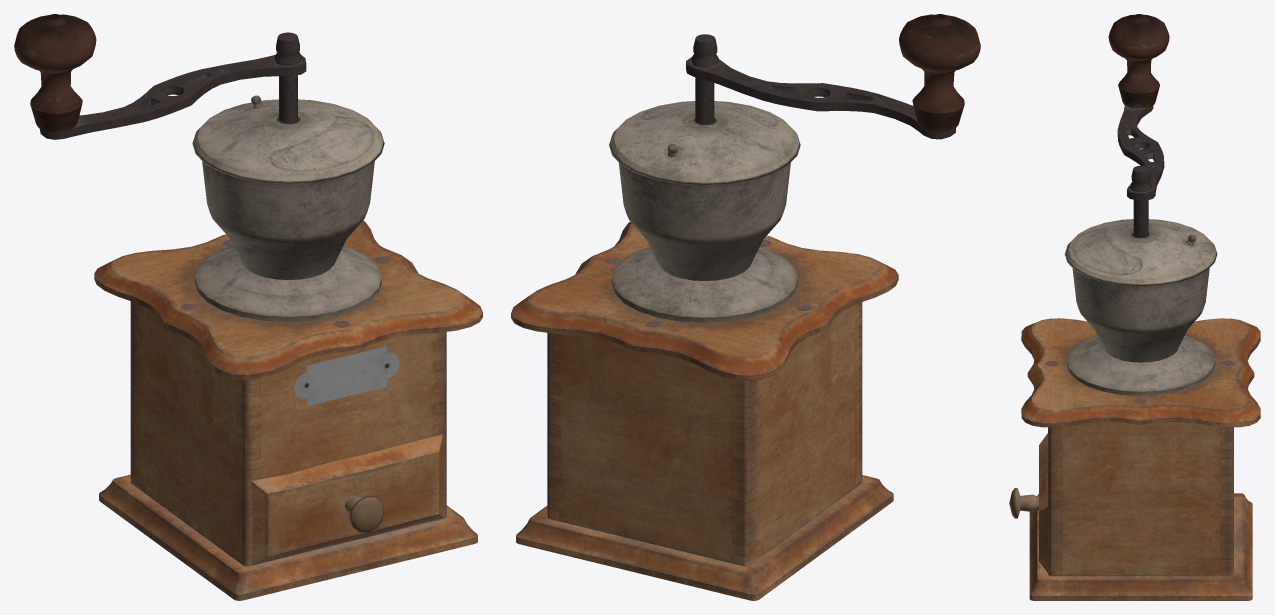
3 renders of one model, left to right at view 1: azimuth 30°, elevation 25°; view 2: azimuth 150°, elevation 25°; view 3: azimuth 270°, elevation 25°, orthographic. The views are drawn at different scales.
Parts seen in each view (by area): view 1: Coffee_Mill_LOD0, Handle_LOD0; view 2: Coffee_Mill_LOD0, Handle_LOD0; view 3: Coffee_Mill_LOD0, Handle_LOD0.
Part boxes in pixels (x1,y1,x2,y2): Coffee_Mill_LOD0: (94, 95, 482, 600); Handle_LOD0: (14, 14, 306, 139); Coffee_Mill_LOD0: (511, 101, 898, 600); Handle_LOD0: (686, 14, 980, 139); Coffee_Mill_LOD0: (1009, 219, 1260, 600); Handle_LOD0: (1108, 14, 1169, 237).
Bounding box in the file's own units: 19.81 × 26.52 × 13.53.
Materials: 1 (1 with a texture image).
